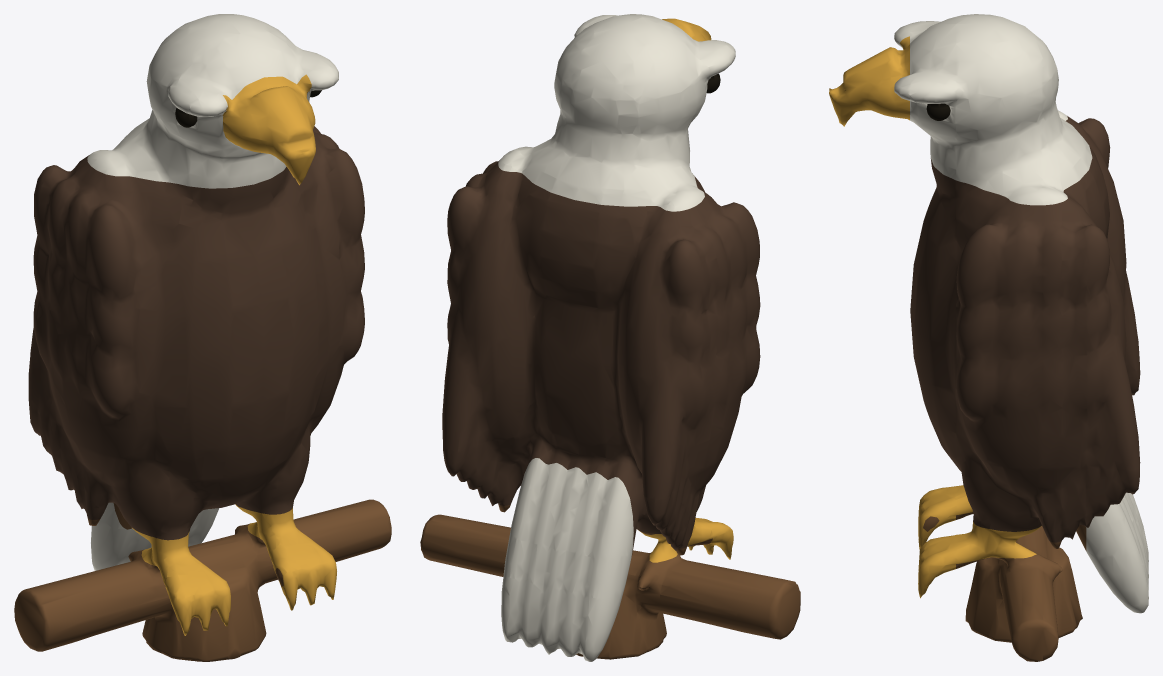
The model's file is NEW_RECOVERY_132_LOD1.fbx.
The picture shows the model from 3 angles, left to right: view 1: azimuth 30°, elevation 25°; view 2: azimuth 150°, elevation 25°; view 3: azimuth 270°, elevation 25°; orthographic projection. The views are drawn at different scales.
Parts seen in each view (by area): view 1: Eagle_static_sculpt; view 2: Eagle_static_sculpt; view 3: Eagle_static_sculpt.
Part boxes in pixels (box(x1,y1,x2,y2)): Eagle_static_sculpt: box(14, 14, 391, 661); Eagle_static_sculpt: box(420, 14, 800, 661); Eagle_static_sculpt: box(829, 14, 1148, 661).
Size of the model in its own units: 167 by 132 by 274.
